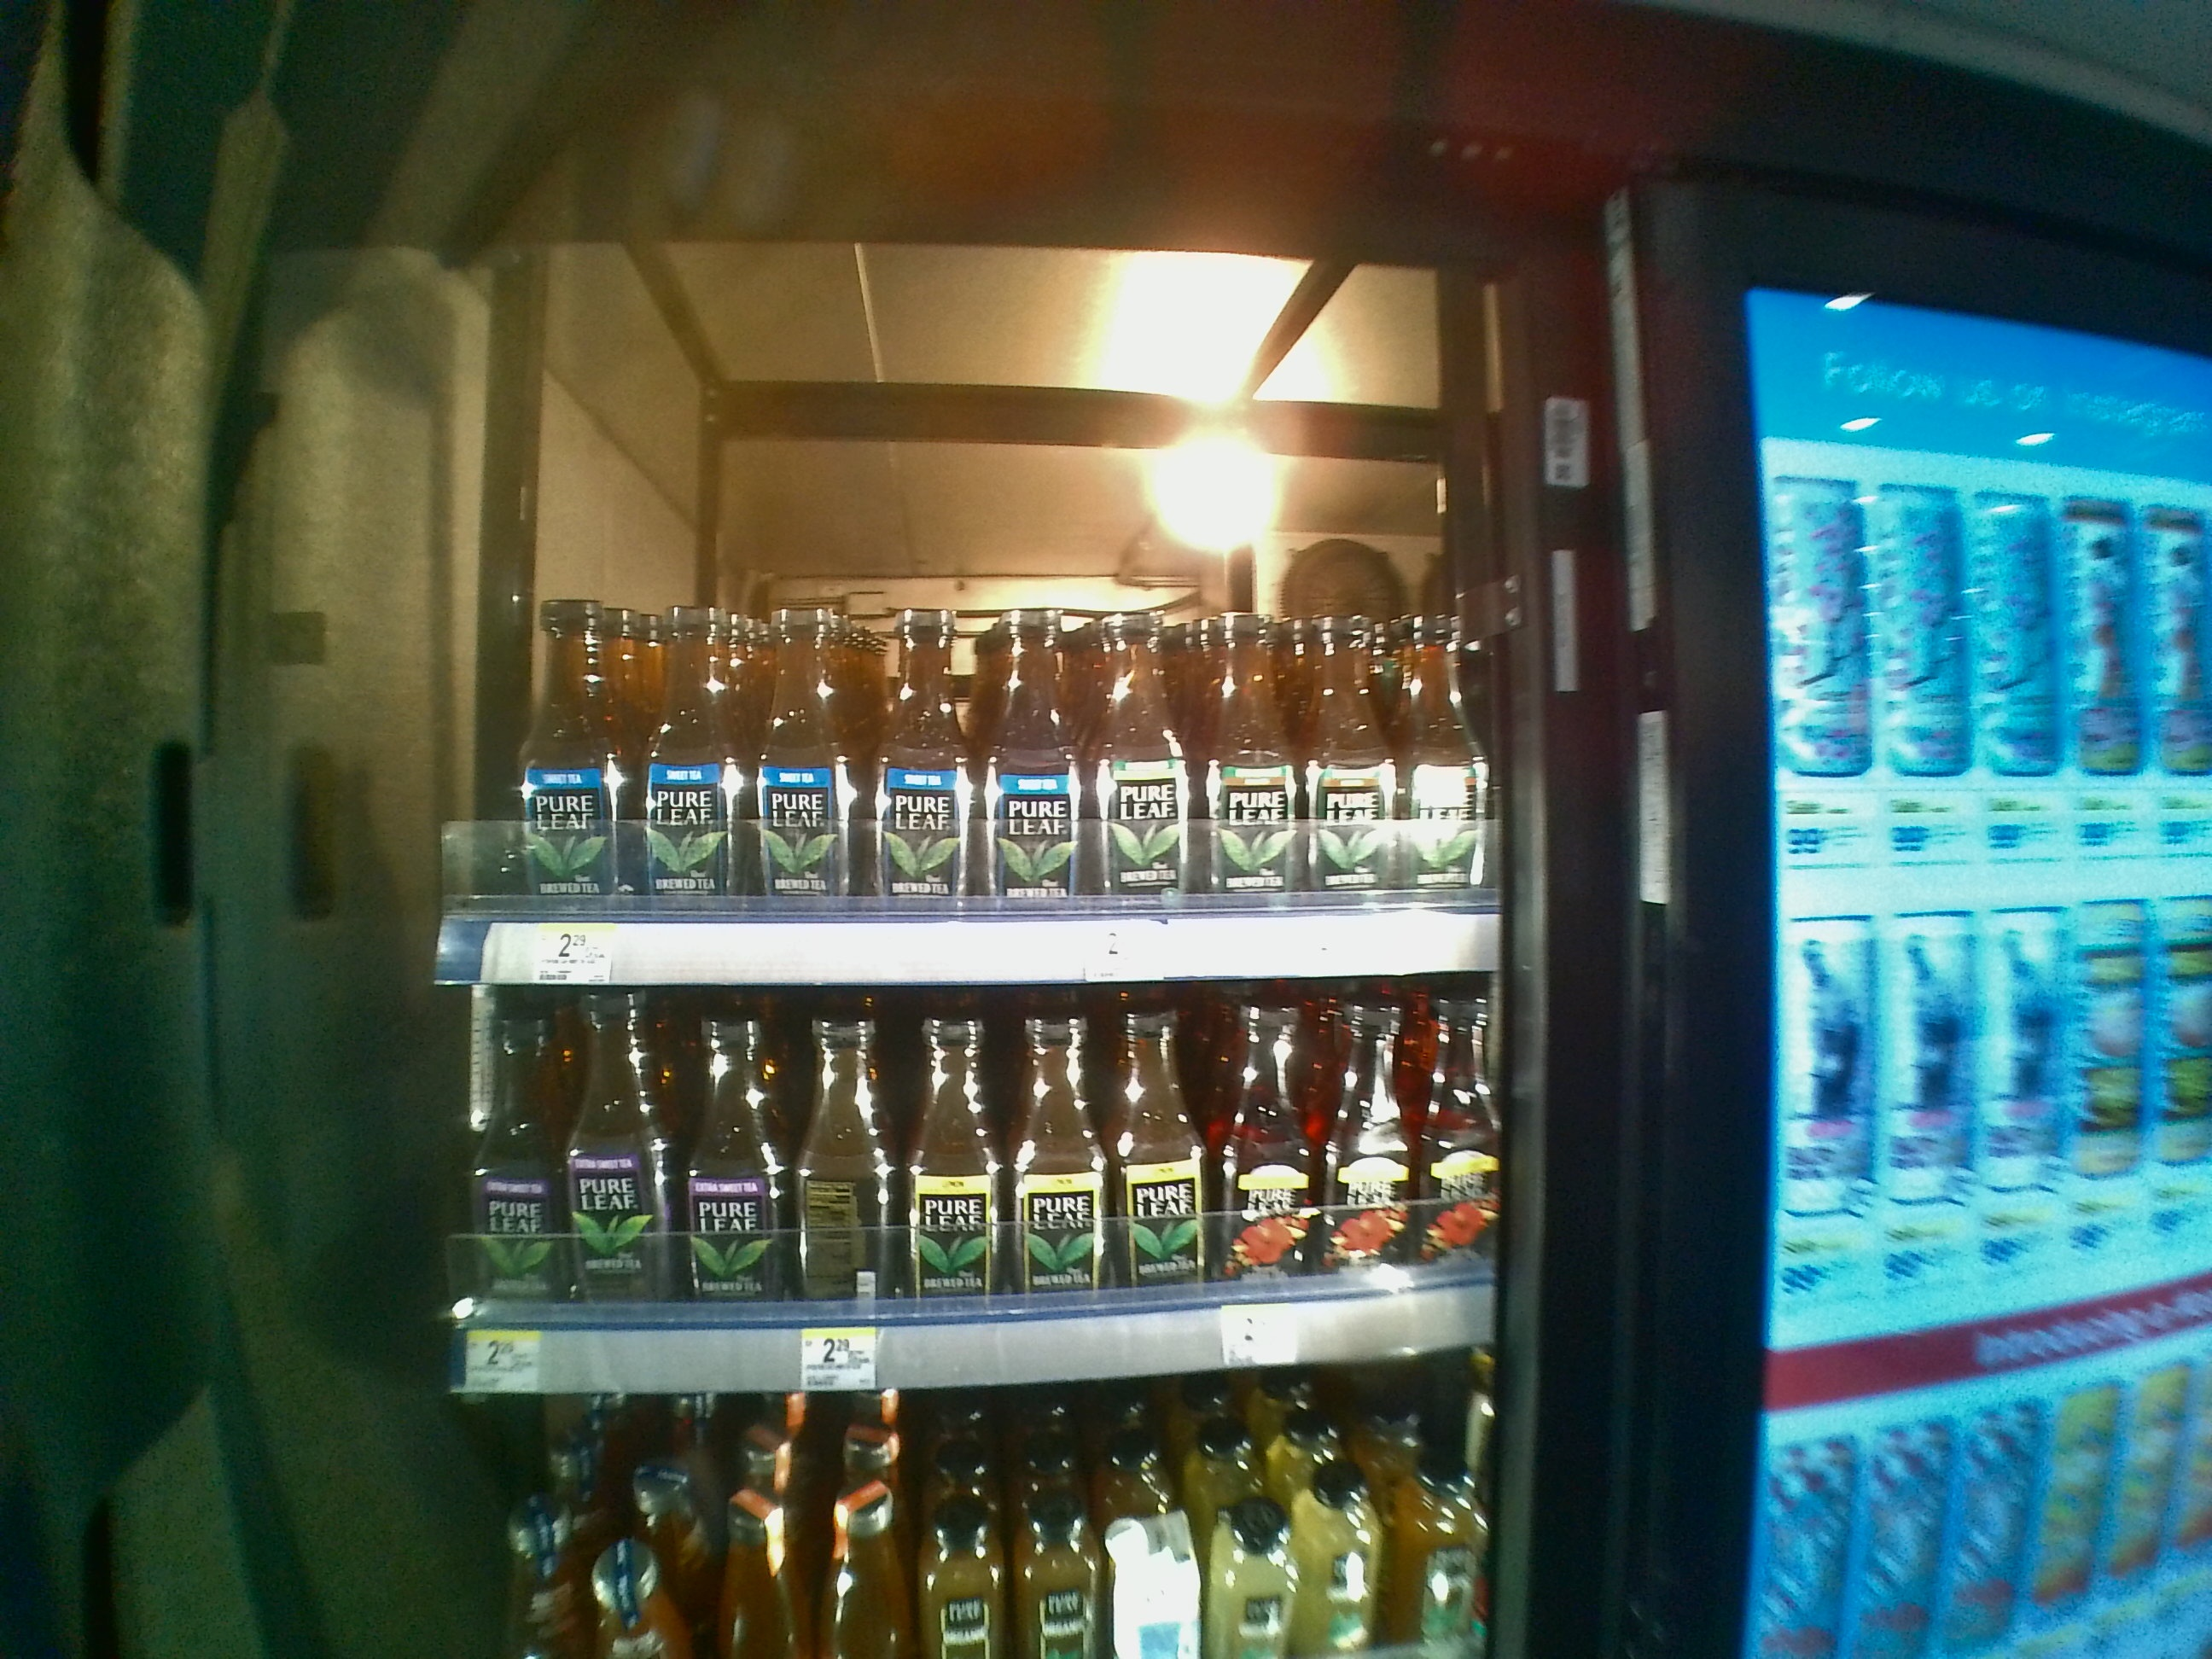shelf: (434, 364, 1493, 972), (432, 993, 1505, 1405)
